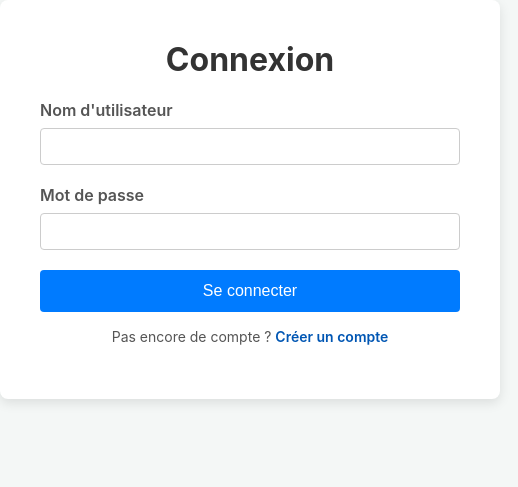
Formulaires TaskForm et Login › bloque un login vide
Expected: the heading "Connexion" is shown, [166, 40, 334, 79]
Click the button "Se connecter". click: (250, 291)
box: [40, 270, 460, 312]
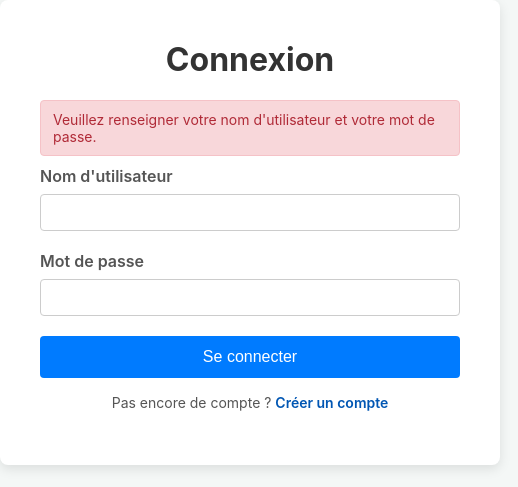
Expected: the message reads "Veuillez renseigner votre nom d'utilisateur et votre mot de passe.", [53, 111, 435, 145]
